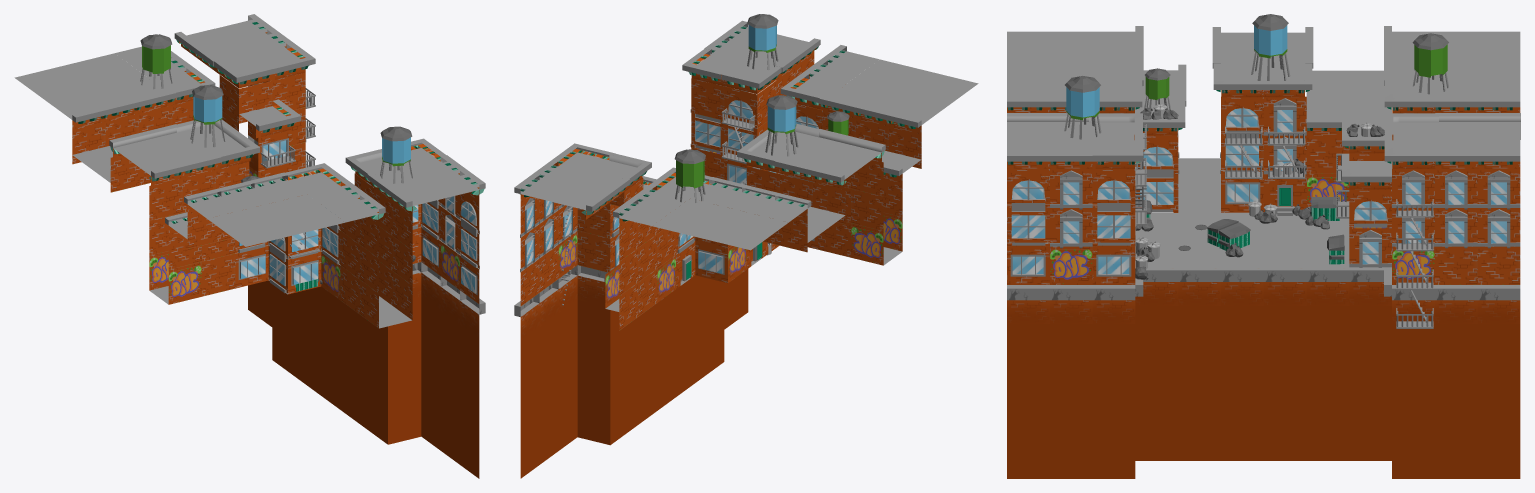
File: kamer_002_ randomized.fbx
3 renders of one model, left to right at view 1: azimuth 30°, elevation 25°; view 2: azimuth 150°, elevation 25°; view 3: azimuth 270°, elevation 25°, orthographic. The views are drawn at different scales.
Visible parts, largest first — view 1: Cylinder.004, Plane.021, Plane.059, Cylinder.003, Plane.062, Cylinder.005, Plane.114, Plane.022, Plane.026, Plane.100, Plane.419, Plane.101 (+111 smaller); view 2: Cylinder.004, Plane.024, Cylinder.003, Cylinder.005, Plane.149, Plane.126, Plane.434, Plane.448, Plane.420, Plane.065, Plane.062, Plane.194 (+110 smaller); view 3: Cylinder.004, Plane.412, Plane.415, Plane.423, Plane.432, Plane.409, Plane.411, Plane.418, Plane.157, Plane.156, Plane.061, Plane.407 (+151 smaller).
Part boxes in pixels (left/top/right/bottom): Cylinder.004: left=190, top=85, right=225, bottom=147; Plane.021: left=182, top=161, right=249, bottom=212; Plane.059: left=239, top=99, right=301, bottom=138; Cylinder.003: left=380, top=126, right=412, bottom=183; Plane.062: left=253, top=42, right=315, bottom=80; Cylinder.005: left=140, top=34, right=172, bottom=89; Plane.114: left=282, top=163, right=346, bottom=194; Plane.022: left=214, top=57, right=273, bottom=88; Plane.026: left=200, top=131, right=260, bottom=168; Plane.100: left=202, top=254, right=235, bottom=296; Plane.419: left=388, top=332, right=421, bottom=374; Plane.101: left=168, top=262, right=201, bottom=304; Cylinder.004: left=765, top=95, right=798, bottom=156; Plane.024: left=747, top=166, right=812, bottom=207; Cylinder.003: left=747, top=14, right=778, bottom=70; Cylinder.005: left=674, top=149, right=705, bottom=203; Plane.149: left=721, top=63, right=781, bottom=93; Plane.126: left=682, top=49, right=742, bottom=86; Plane.434: left=577, top=368, right=610, bottom=410; Plane.448: left=577, top=403, right=610, bottom=444; Plane.420: left=577, top=334, right=610, bottom=376; Plane.065: left=577, top=231, right=610, bottom=272; Plane.062: left=552, top=143, right=615, bottom=174; Plane.194: left=577, top=299, right=610, bottom=341; Cylinder.004: left=1251, top=14, right=1290, bottom=80; Plane.412: left=1263, top=344, right=1306, bottom=383; Plane.415: left=1135, top=344, right=1178, bottom=383; Plane.423: left=1477, top=401, right=1520, bottom=440; Plane.432: left=1092, top=401, right=1135, bottom=440; Plane.409: left=1477, top=362, right=1520, bottom=401; Plane.411: left=1306, top=344, right=1349, bottom=383; Plane.418: left=1092, top=362, right=1135, bottom=401; Plane.157: left=1477, top=169, right=1520, bottom=209; Plane.156: left=1477, top=208, right=1520, bottom=248; Plane.061: left=1349, top=228, right=1391, bottom=267; Plane.407: left=1392, top=362, right=1434, bottom=401.
Size of the model in its own units: 736 by 982 by 1201.
